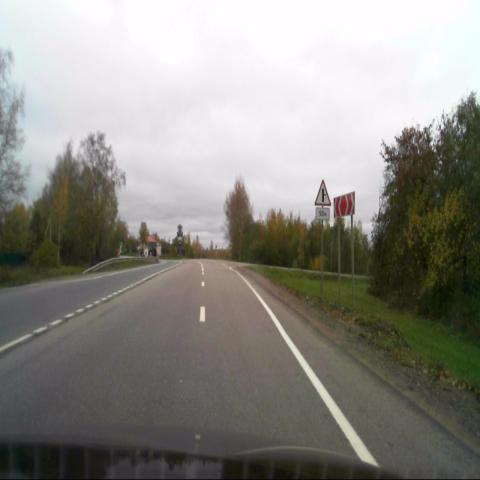2_3_2: (314, 178, 331, 205)
